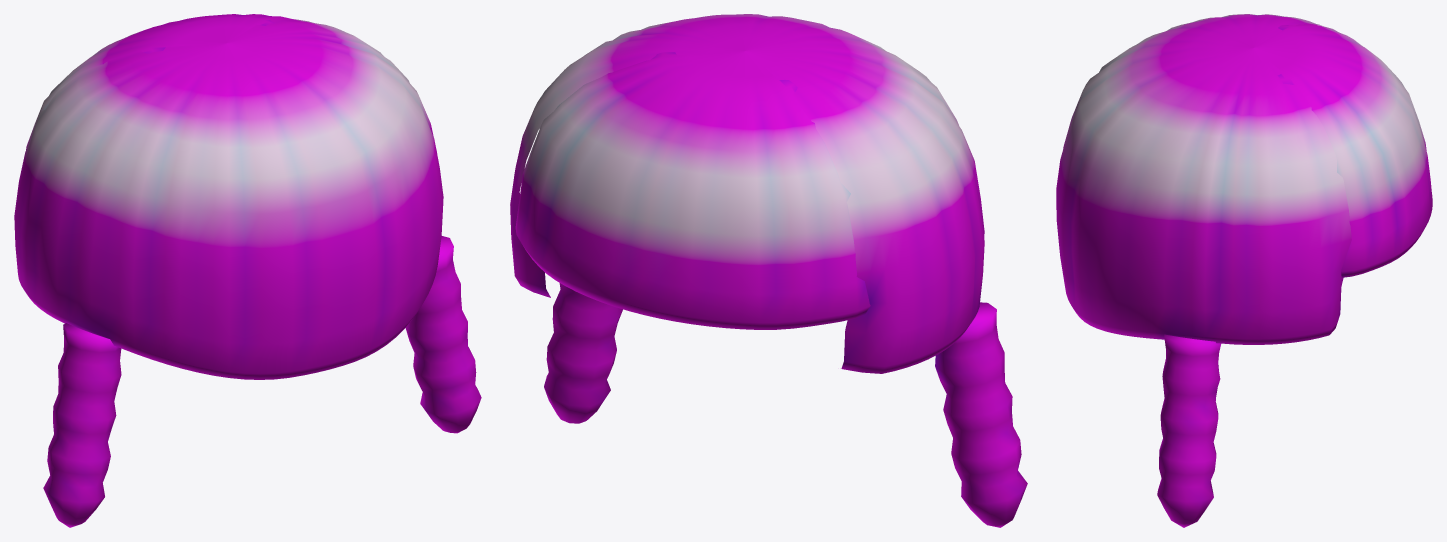
The model's file is pigtails_mid.glb.
3 renders of one model, left to right at view 1: azimuth 30°, elevation 25°; view 2: azimuth 150°, elevation 25°; view 3: azimuth 270°, elevation 25°, orthographic. The views are drawn at different scales.
Parts seen in each view (by area): view 1: pigtails; view 2: pigtails; view 3: pigtails.
Boxes of the visible parts, x1,y1,x2,y2 form: pigtails: (14,14,481,527); pigtails: (510,14,1027,527); pigtails: (1056,14,1432,527).
Size of the model in its own units: 1.05 by 0.9581 by 0.8381.
